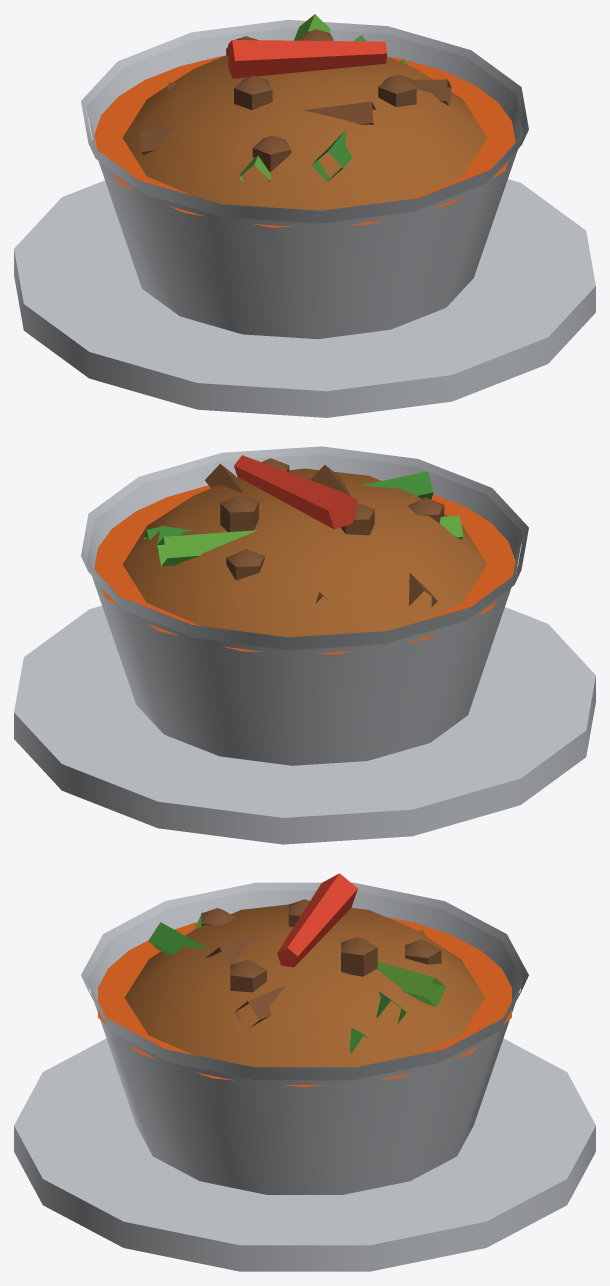
The model's file is pass_ker_sangri.glb.
3 renders of one model, top to bottom at view 1: azimuth 30°, elevation 25°; view 2: azimuth 150°, elevation 25°; view 3: azimuth 270°, elevation 25°, orthographic.
Visible parts, largest first — view 1: pass_ker_sangri; view 2: pass_ker_sangri; view 3: pass_ker_sangri.
Part boxes in pixels (x1,y1,x2,y2): pass_ker_sangri: (14,14,595,417); pass_ker_sangri: (14,446,595,844); pass_ker_sangri: (14,873,595,1271).
Bounding box in the file's own units: 0.195 × 0.0955 × 0.2.
1 material, 1 textured.
